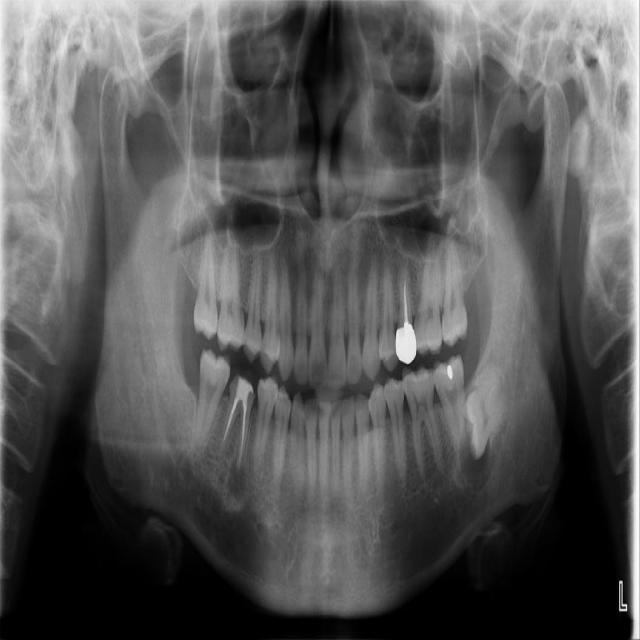52: (427, 353, 473, 404), (395, 322, 416, 364)
73: (213, 373, 259, 469), (594, 588, 602, 598)
BioHorizons Implant: (410, 236, 443, 357)
BioLife Implant: (440, 245, 473, 348)
Biomet 3i Implant: (457, 376, 520, 461)
Blue Sky Bio Implant: (432, 353, 467, 449)
Caries: (187, 231, 219, 341)
Implant: (194, 347, 232, 449)
